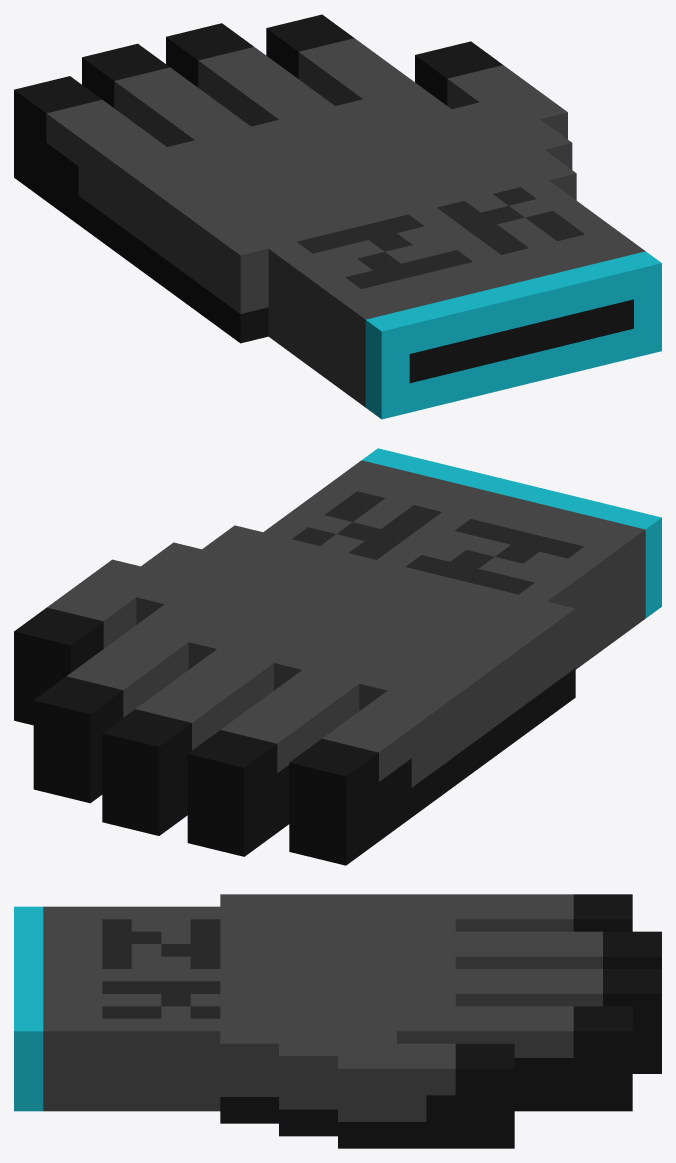
Rendered from Voxel Universe Objects-11.obj.
3 renders of one model, top to bottom at view 1: azimuth 30°, elevation 25°; view 2: azimuth 150°, elevation 25°; view 3: azimuth 270°, elevation 25°, orthographic. The views are drawn at different scales.
Bounding box in the file's own units: 1.4 × 0.3 × 2.2.
Materials: 1 (1 with a texture image).
